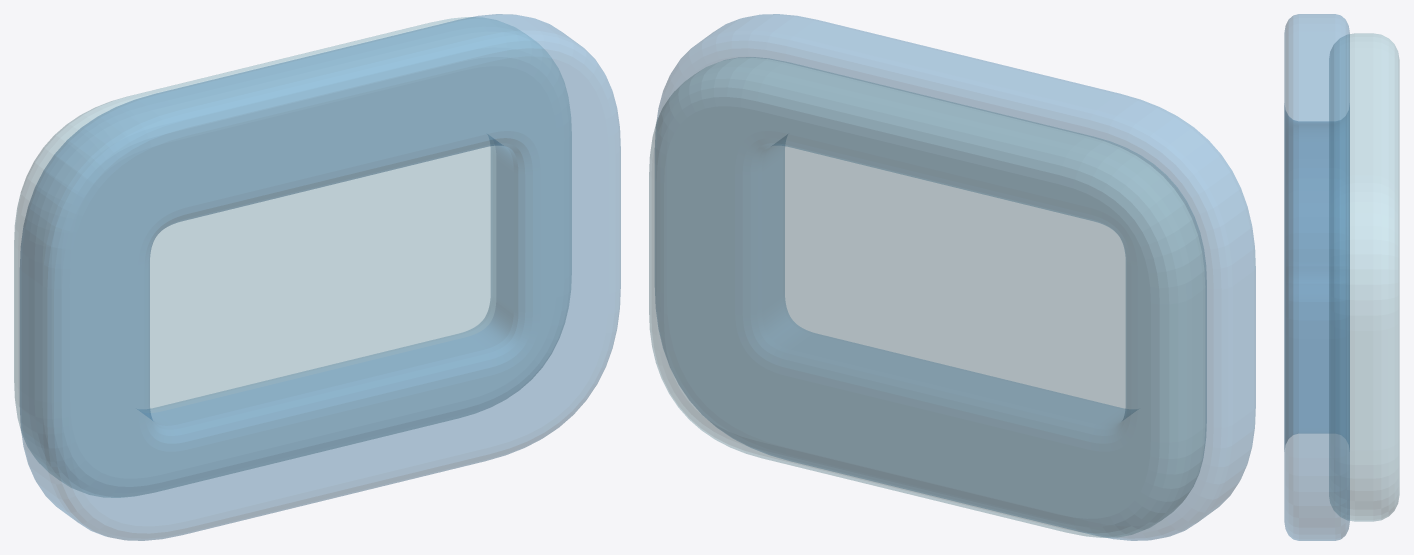
3 renders of one model, left to right at view 1: azimuth 30°, elevation 25°; view 2: azimuth 150°, elevation 25°; view 3: azimuth 270°, elevation 25°, orthographic. The views are drawn at different scales.
Visible parts, largest first — view 1: inset-support, raised-bed; view 2: inset-support, raised-bed; view 3: raised-bed, inset-support.
Boxes of the visible parts, <box> form: inset-support: <box>14,17,571,497</box>; raised-bed: <box>20,14,620,540</box>; inset-support: <box>649,57,1206,537</box>; raised-bed: <box>655,14,1255,540</box>; raised-bed: <box>1284,14,1349,540</box>; inset-support: <box>1329,33,1399,521</box>.
Bounding box in the file's own units: 2.19 × 1.54 × 0.44.
